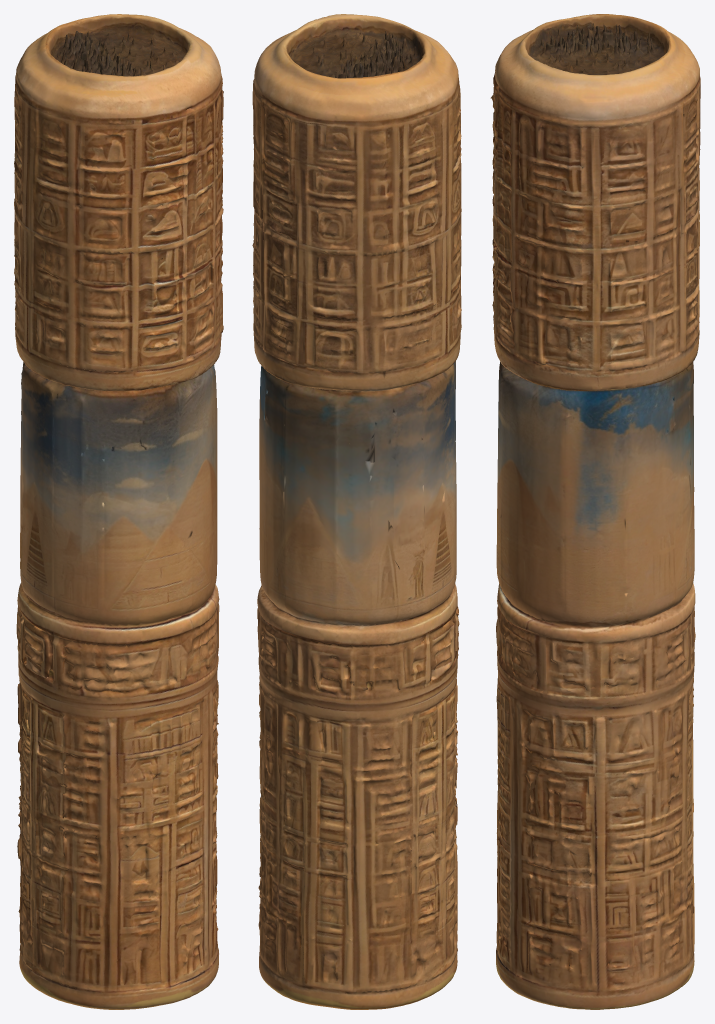
Rendered from 2e907795-1060-49a8-bf70-42bcb94b704d.glb.
3 renders of one model, left to right at view 1: azimuth 30°, elevation 25°; view 2: azimuth 150°, elevation 25°; view 3: azimuth 270°, elevation 25°, orthographic.
Size of the model in its own units: 0.4109 by 2 by 0.412.
1 material, 1 textured.
